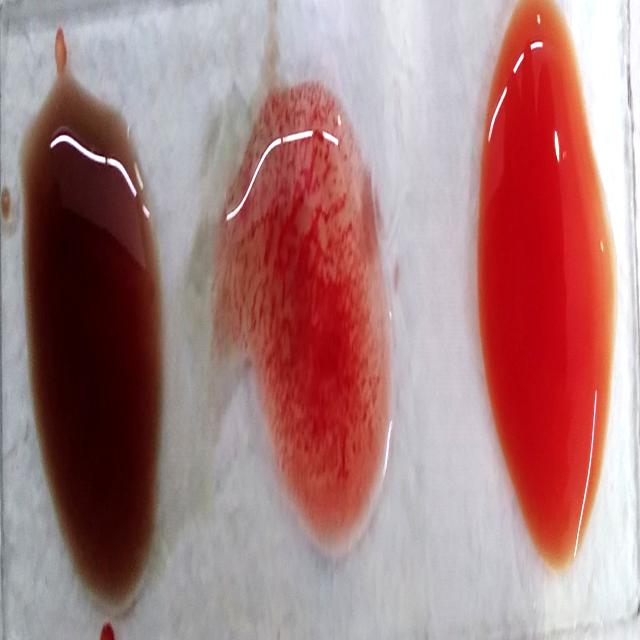D: (241, 97, 390, 558)
